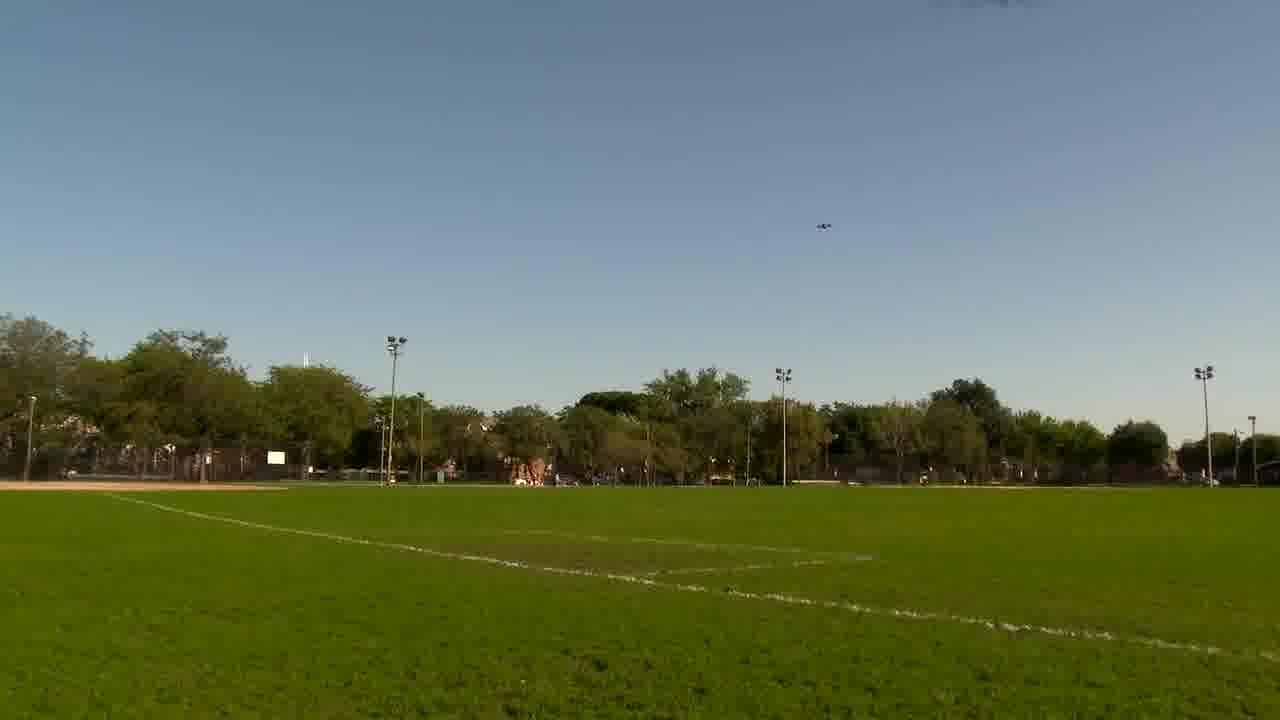drone: (810, 218, 842, 236)
